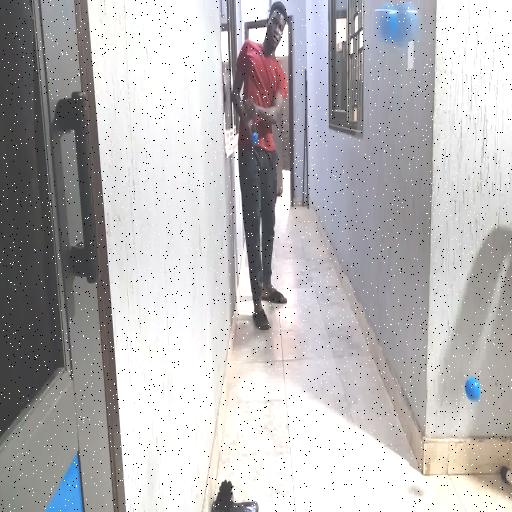plastic-ball: (373, 0, 421, 50)
